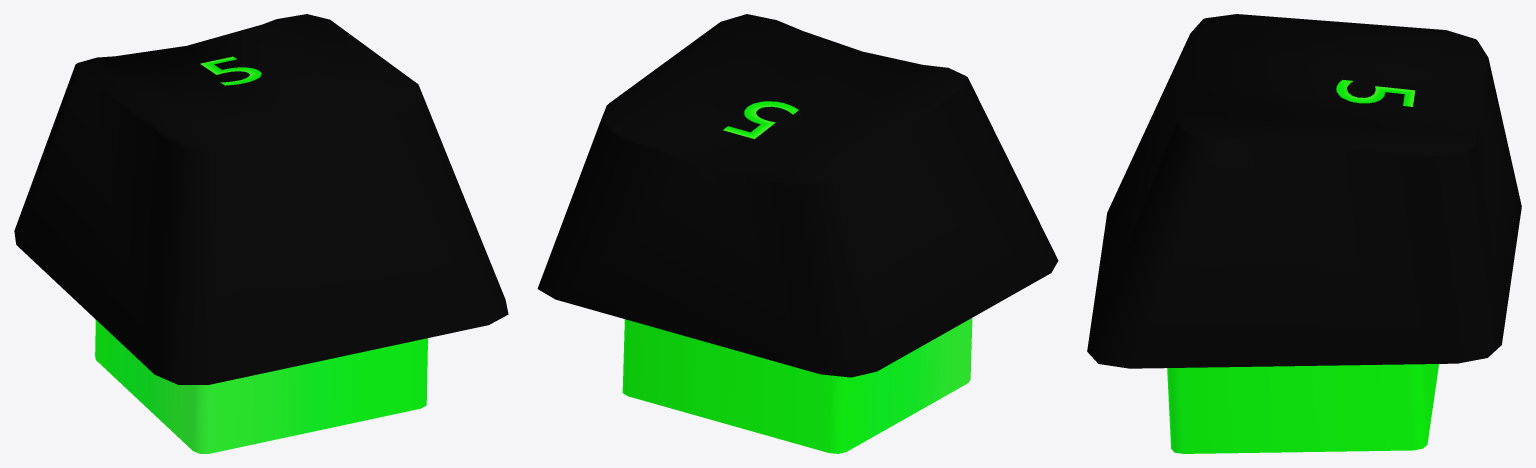
The model's file is key_5-Bnx49uqt.glb.
3 renders of one model, left to right at view 1: azimuth 30°, elevation 25°; view 2: azimuth 150°, elevation 25°; view 3: azimuth 270°, elevation 25°, orthographic. The views are drawn at different scales.
Visible parts, largest first — view 1: StudyShelf_196; view 2: StudyShelf_196; view 3: StudyShelf_196.
Boxes of the visible parts, x1,y1,x2,y2 form: StudyShelf_196: (14,14,508,453); StudyShelf_196: (537,14,1058,453); StudyShelf_196: (1087,14,1521,453).
Bounding box in the file's own units: 4.35 × 3.55 × 4.35.
Materials: 2 (1 with a texture image).
